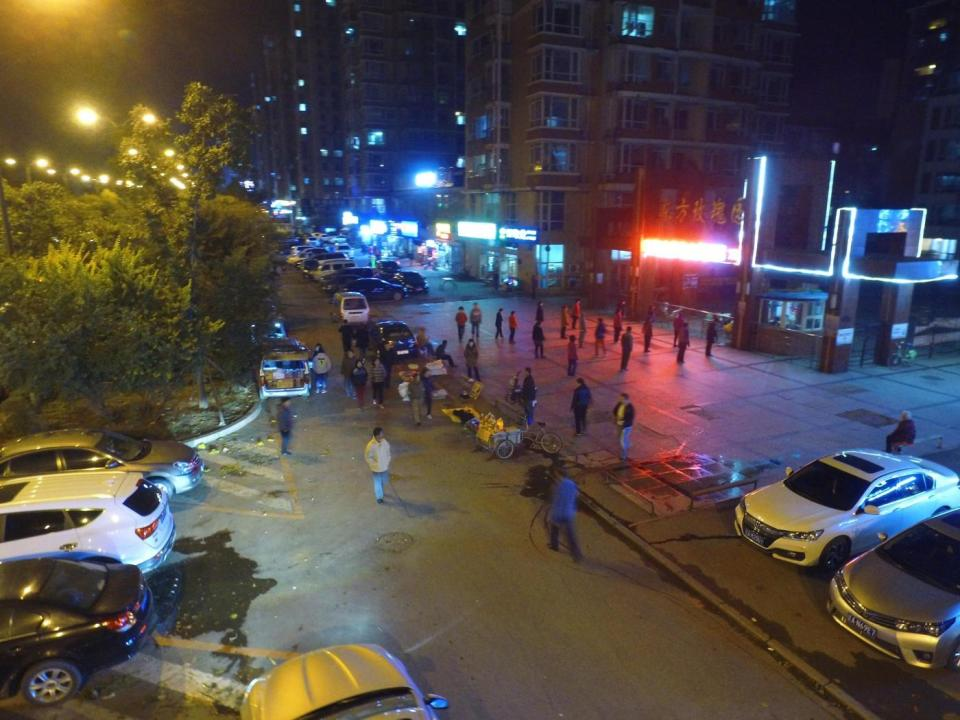car: (733, 447, 960, 567), (0, 561, 156, 706), (828, 505, 960, 667), (1, 470, 176, 581), (241, 642, 450, 720), (1, 429, 206, 507), (372, 320, 417, 358), (342, 278, 410, 302), (310, 258, 356, 282), (297, 252, 347, 273), (247, 322, 285, 348), (395, 269, 429, 295), (324, 268, 373, 286), (375, 258, 401, 280), (324, 275, 362, 290), (335, 241, 354, 258)
van: (255, 336, 312, 400), (330, 292, 369, 324), (291, 245, 322, 258)
